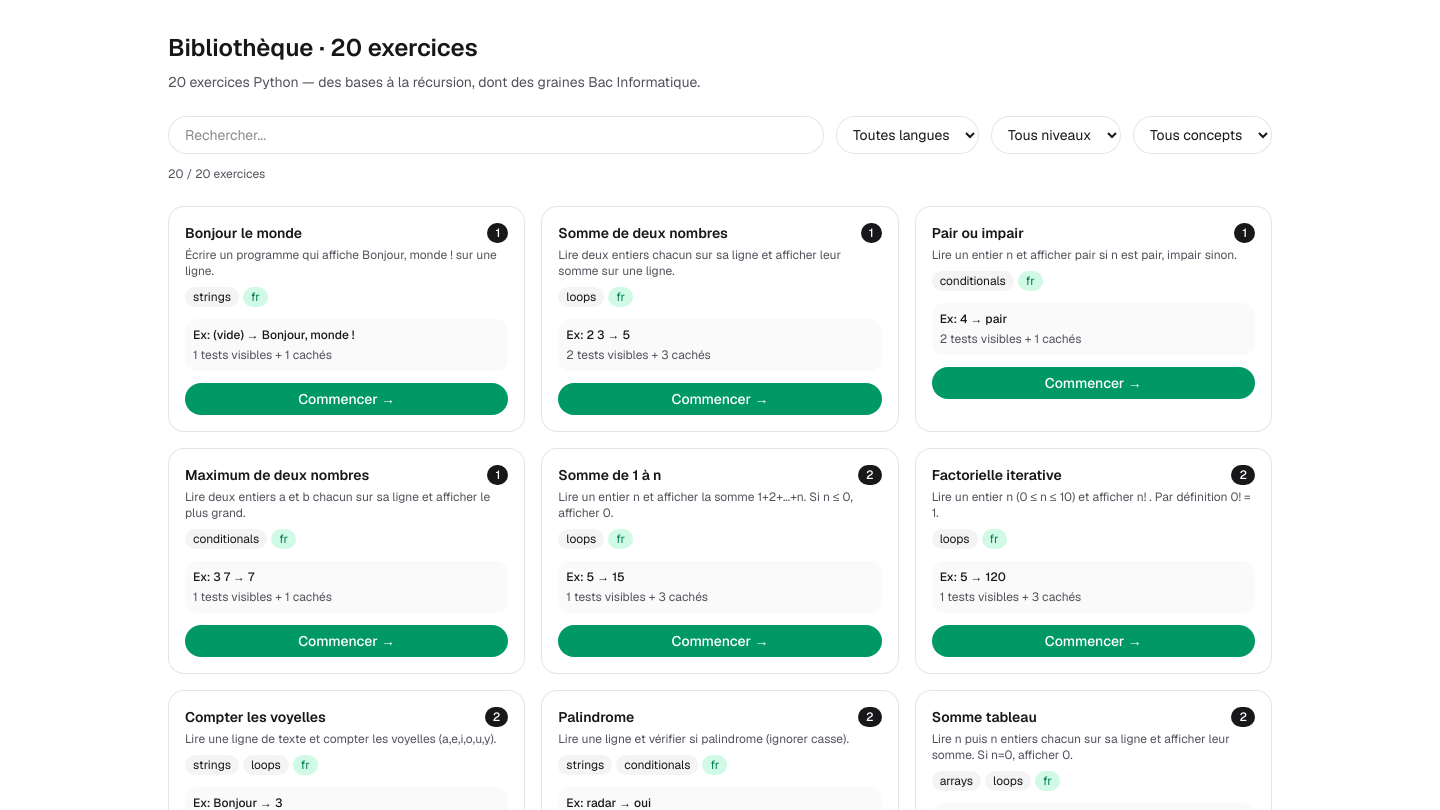
Test: LibraryClient › filters by locale (library is 100% French)
Select "Français" in the dropdown with test id "filter-locale" at (908, 135), box top-left (836, 116), bottom-right (979, 154)
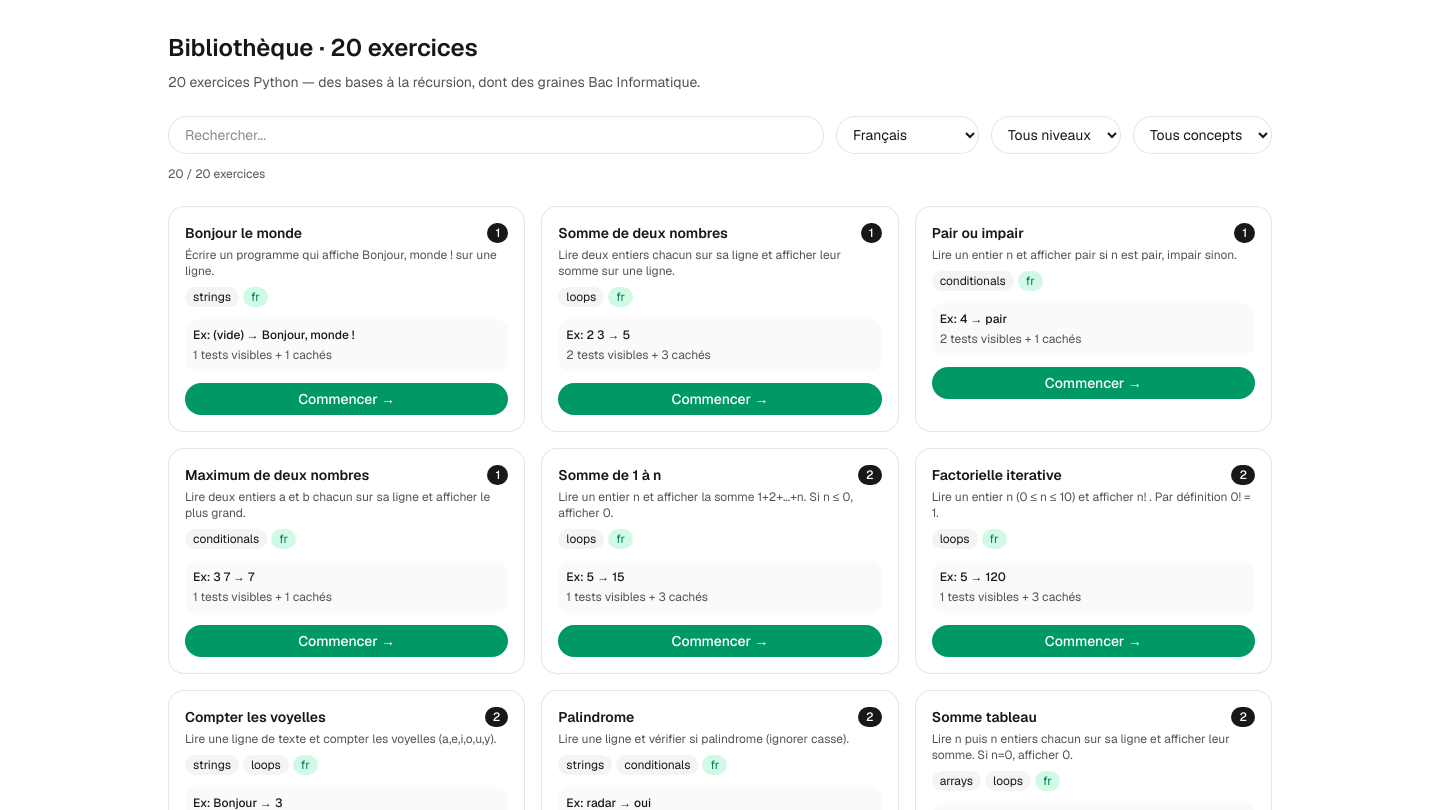
Select "العربية" in the dropdown with test id "filter-locale" at (908, 135), box top-left (836, 116), bottom-right (979, 154)
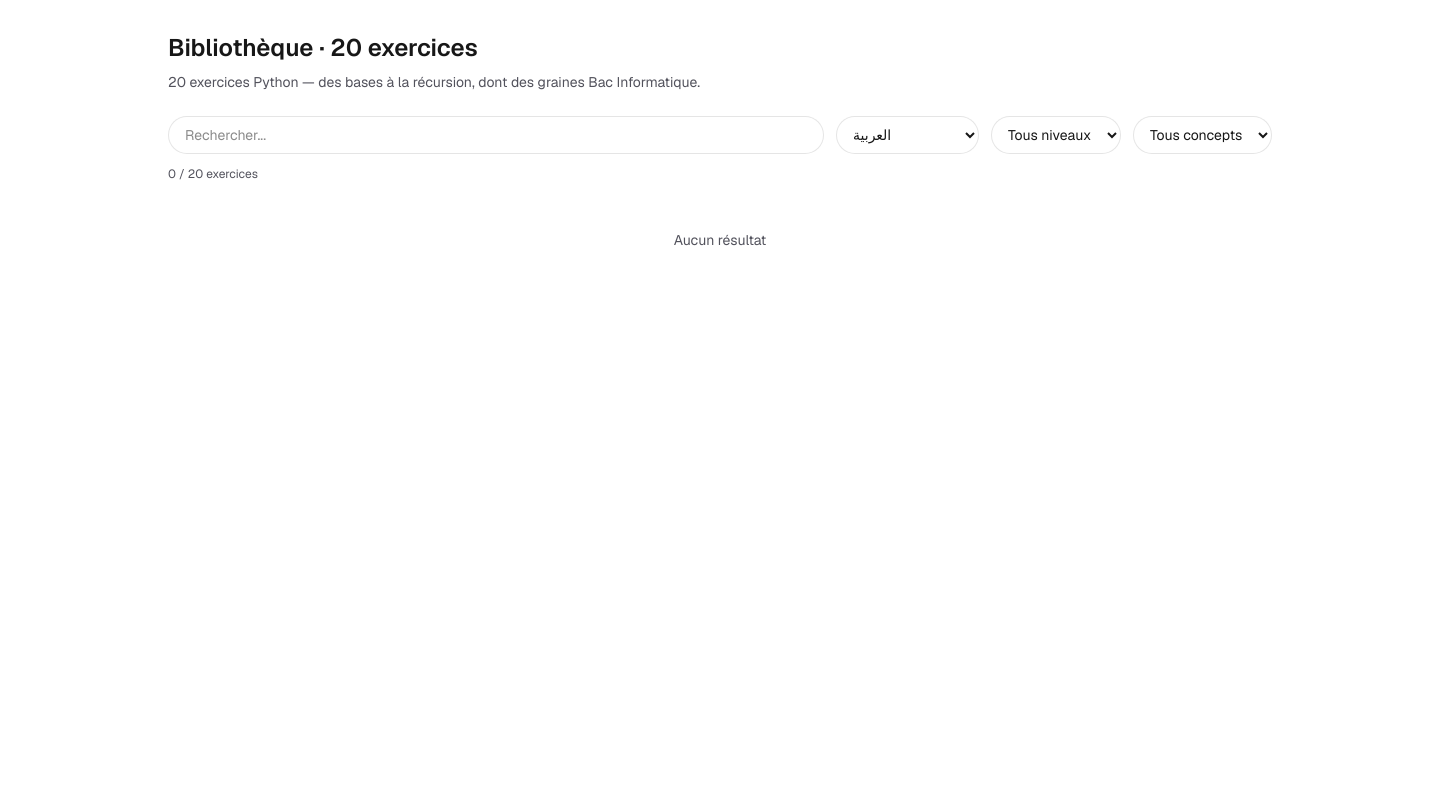
Expected: the text with test id "library-count" shows "0 /", top-left (168, 166), bottom-right (258, 182)
